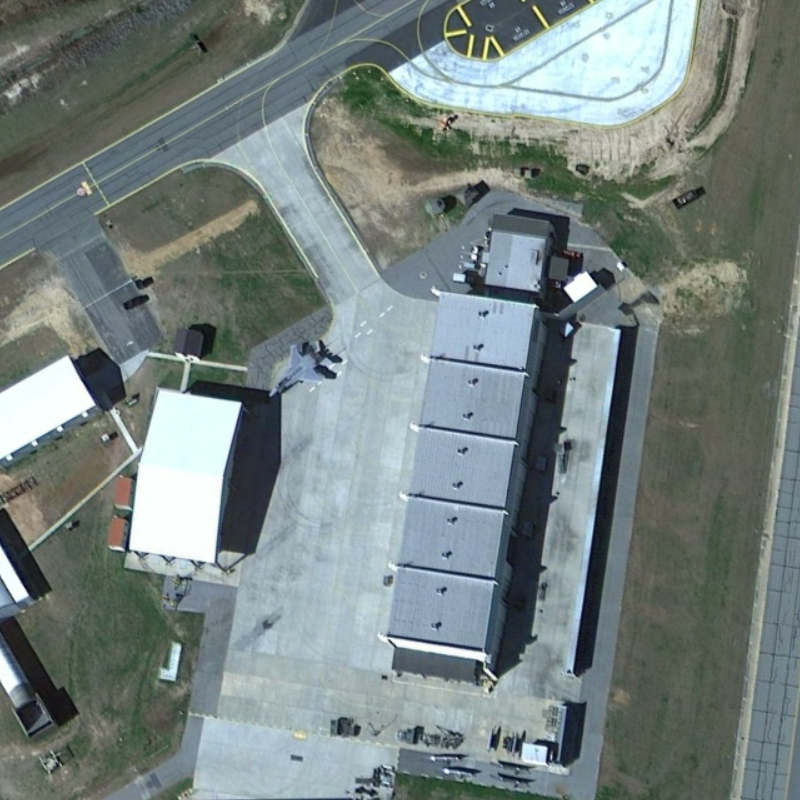A13: (266, 338, 331, 402)
